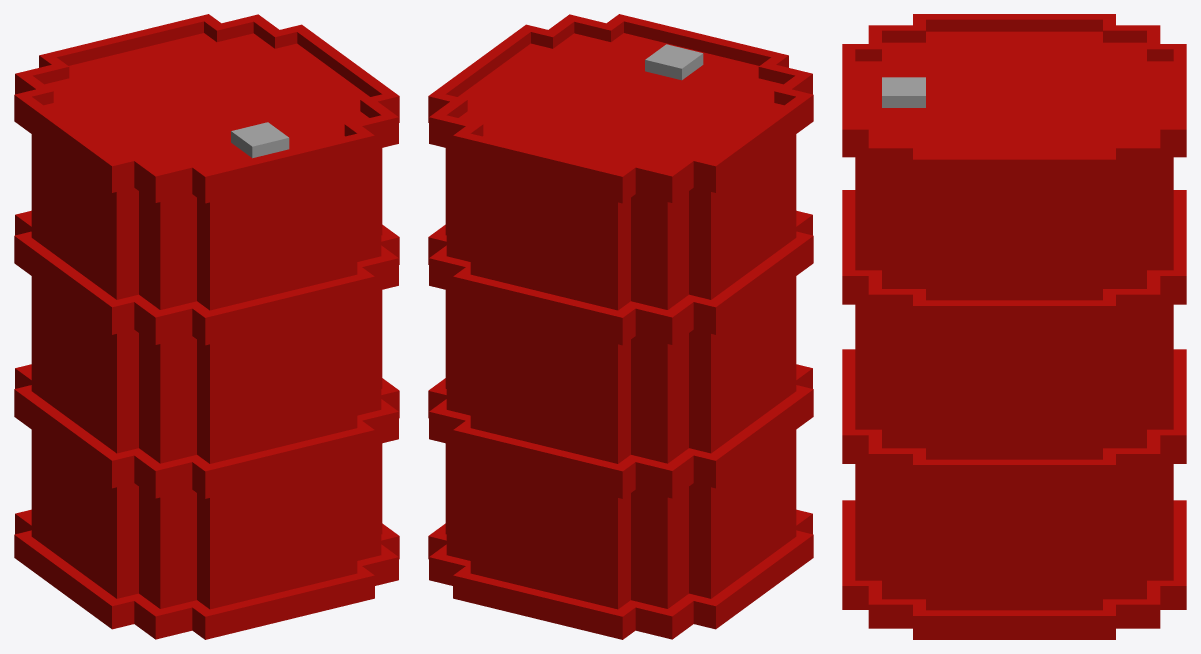
Rendered from barrel.fbx.
3 renders of one model, left to right at view 1: azimuth 30°, elevation 25°; view 2: azimuth 150°, elevation 25°; view 3: azimuth 270°, elevation 25°, orthographic. The views are drawn at different scales.
Visible parts, largest first — view 1: barrel_base; view 2: barrel_base; view 3: barrel_base.
Part boxes in pixels (x1,y1,x2,y2): barrel_base: [14, 14, 399, 639]; barrel_base: [428, 14, 813, 639]; barrel_base: [842, 14, 1186, 639].
Bounding box in the file's own units: 65 × 100 × 65.
